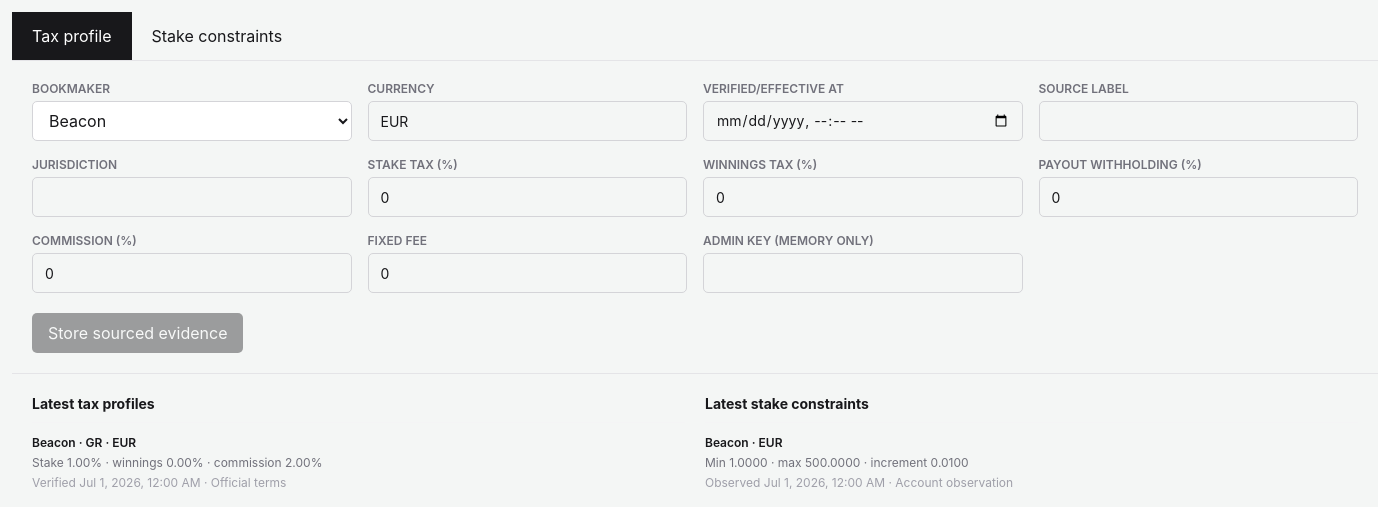
Test case: ArbitrageSettings › shows sourced tax and constraint provenance and both entry modes
This screenshot has width=1378, height=507.
Check: the text "Stake 1.00% · winnings 0.00% · commission 2.00%" is shown, box [32,455,322,470]
Check: the text "Min 1.0000 · max 500.0000 · increment 0.0100" is shown, box [705,455,969,470]
Click the button "Stake constraints" at (217, 36), box [132,12,302,60]
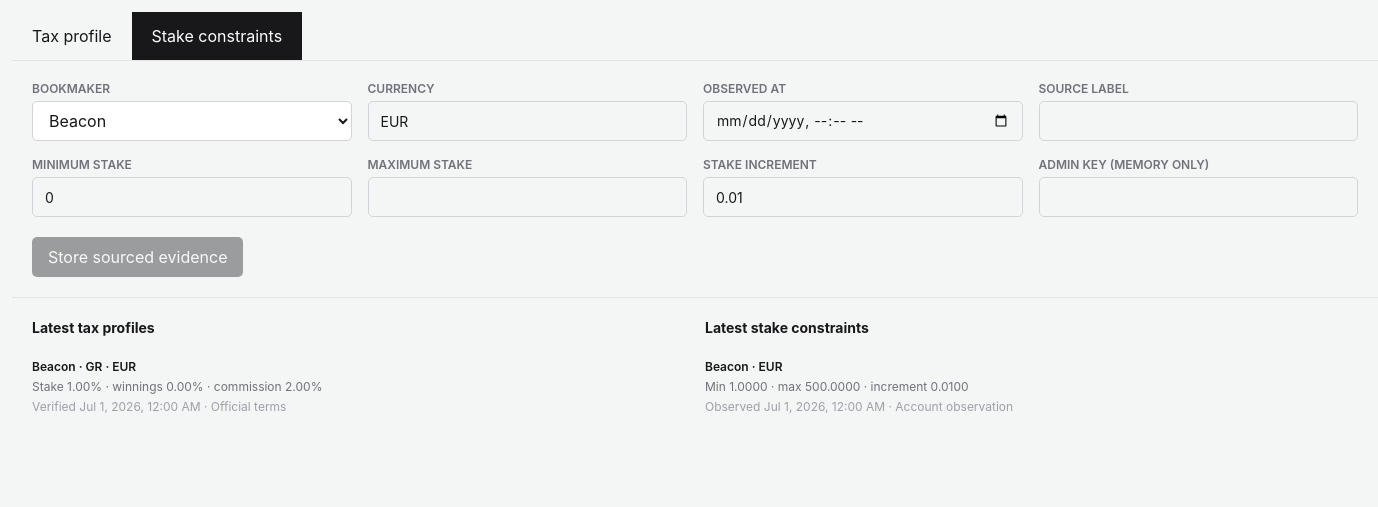
Check: the field labelled "Source label" is shown, box [1038,101,1358,141]
Check: the number field labelled "Maximum stake" is shown, box [368,177,687,217]
